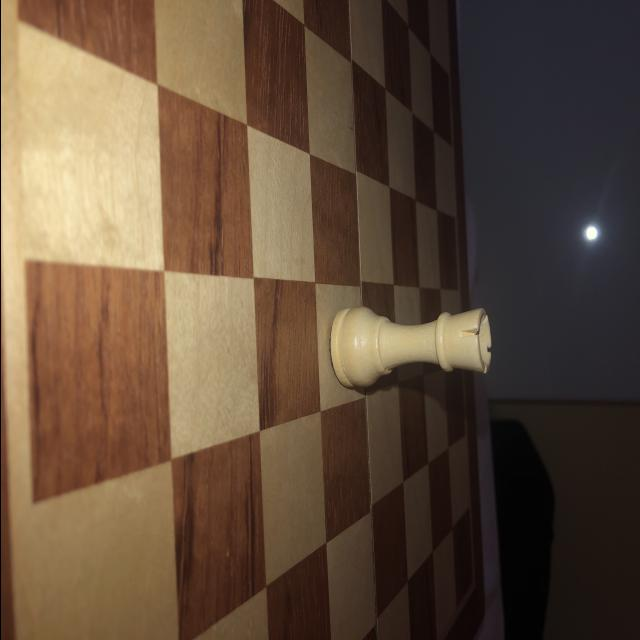white_rook: (327, 304, 495, 392)
